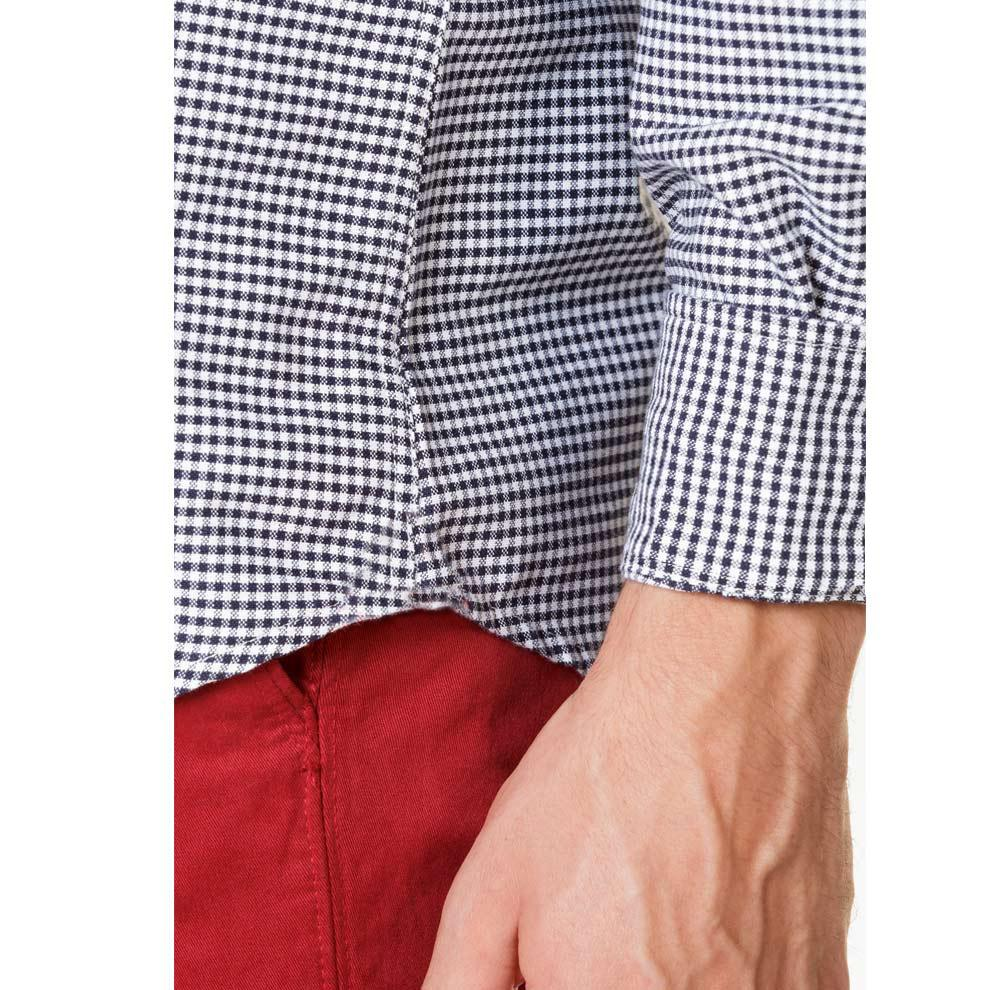teeshirt: (133, 1, 923, 601)
